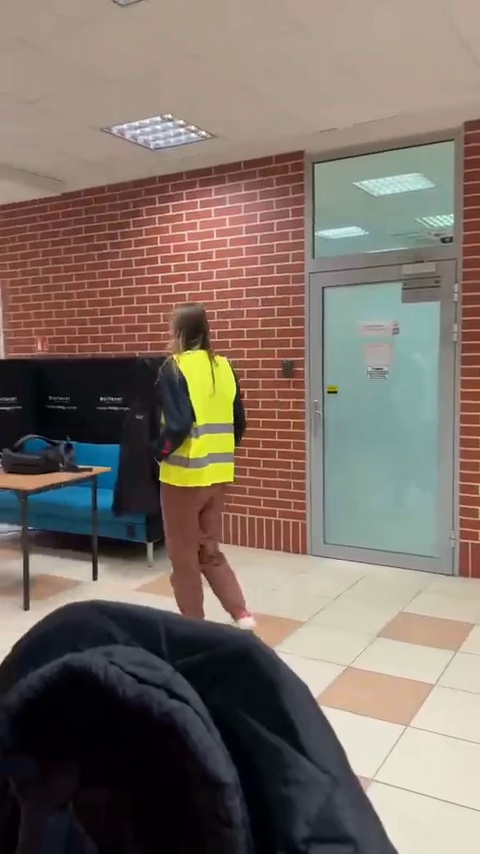vest: (146, 302, 264, 614)
